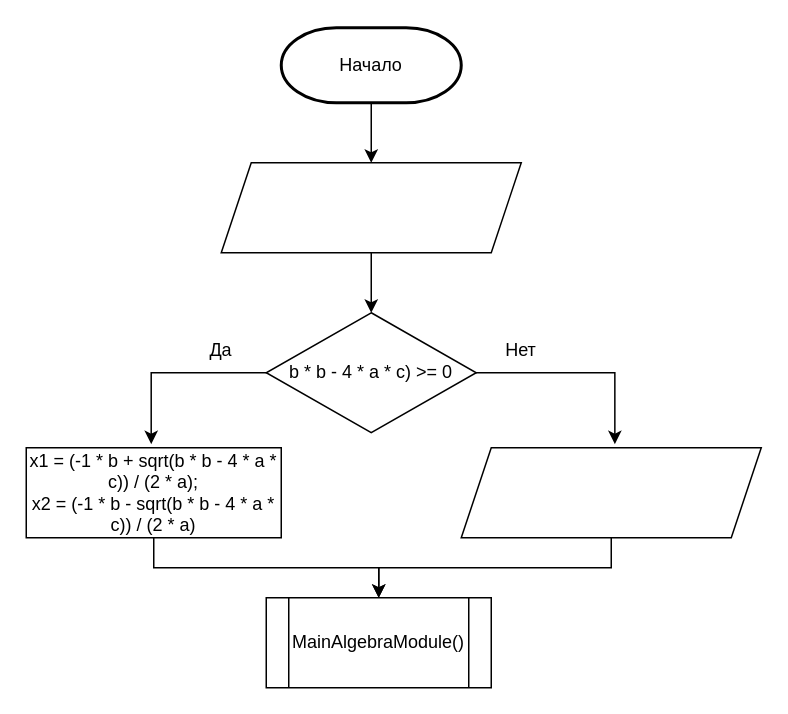
The diagram is 788 pixels wide and 714 high, and some of its shapes have lost their labels. The box of each missing label's shape, as (x1, y1, x2, y2) in pixels:
Ввод a,b,c: (220, 161, 521, 253)
Дискриминант меньше 0, корни невещественные!: (460, 446, 761, 538)
